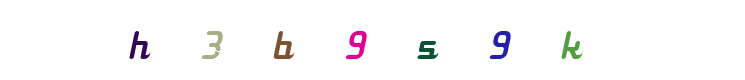3: (249, 0, 329, 80)
9: (332, 0, 412, 80), (387, 0, 467, 80)
B: (317, 0, 397, 80)
H: (99, 0, 179, 80)
K: (461, 0, 541, 80)
S: (368, 0, 448, 80)
